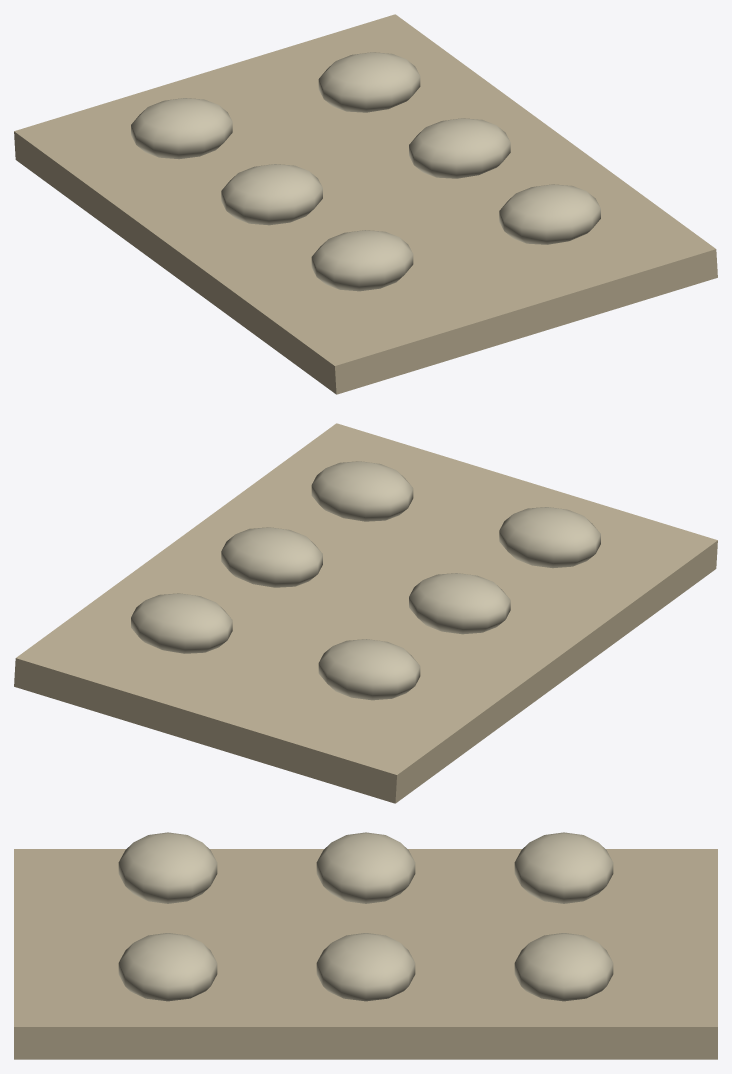
The model's file is medicine_blister.glb.
3 views of the same model, one above another, from view 1: azimuth 30°, elevation 25°; view 2: azimuth 150°, elevation 25°; view 3: azimuth 270°, elevation 25° (orthographic). The views are drawn at different scales.
Visible parts, largest first — view 1: paper__foil_card, _MeshInstance3D_158, _MeshInstance3D_157, porcelain__pill_dome, _MeshInstance3D_159, _MeshInstance3D_161, _MeshInstance3D_160; view 2: paper__foil_card, porcelain__pill_dome, _MeshInstance3D_157, _MeshInstance3D_158, _MeshInstance3D_161, _MeshInstance3D_159, _MeshInstance3D_160; view 3: paper__foil_card, porcelain__pill_dome, _MeshInstance3D_157, _MeshInstance3D_158, _MeshInstance3D_159, _MeshInstance3D_160, _MeshInstance3D_161.
Part boxes in pixels (x1,y1,x2,y2): paper__foil_card: (14, 14, 717, 394); _MeshInstance3D_158: (311, 230, 413, 291); _MeshInstance3D_157: (221, 164, 322, 225); porcelain__pill_dome: (131, 98, 232, 159); _MeshInstance3D_159: (318, 52, 420, 112); _MeshInstance3D_161: (499, 184, 600, 244); _MeshInstance3D_160: (409, 118, 510, 178); paper__foil_card: (14, 423, 717, 803); porcelain__pill_dome: (318, 639, 420, 700); _MeshInstance3D_157: (409, 573, 510, 634); _MeshInstance3D_158: (499, 507, 600, 568); _MeshInstance3D_161: (311, 461, 413, 521); _MeshInstance3D_159: (131, 593, 232, 653); _MeshInstance3D_160: (221, 527, 322, 587); paper__foil_card: (14, 849, 717, 1059); porcelain__pill_dome: (514, 832, 613, 903); _MeshInstance3D_157: (316, 832, 415, 903); _MeshInstance3D_158: (118, 832, 217, 903); _MeshInstance3D_159: (514, 933, 613, 1001); _MeshInstance3D_160: (316, 933, 415, 1001); _MeshInstance3D_161: (118, 933, 217, 1001).
Bounding box in the file's own units: 0.1103 × 0.0228 × 0.16.
